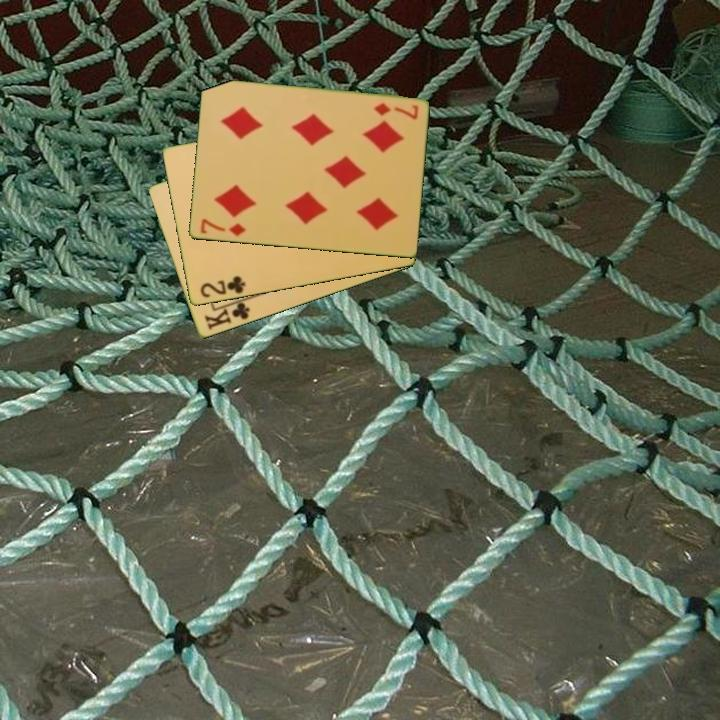2c: (196, 273, 248, 301)
7d: (197, 215, 248, 239), (371, 100, 421, 122)
Kc: (200, 295, 253, 333)
